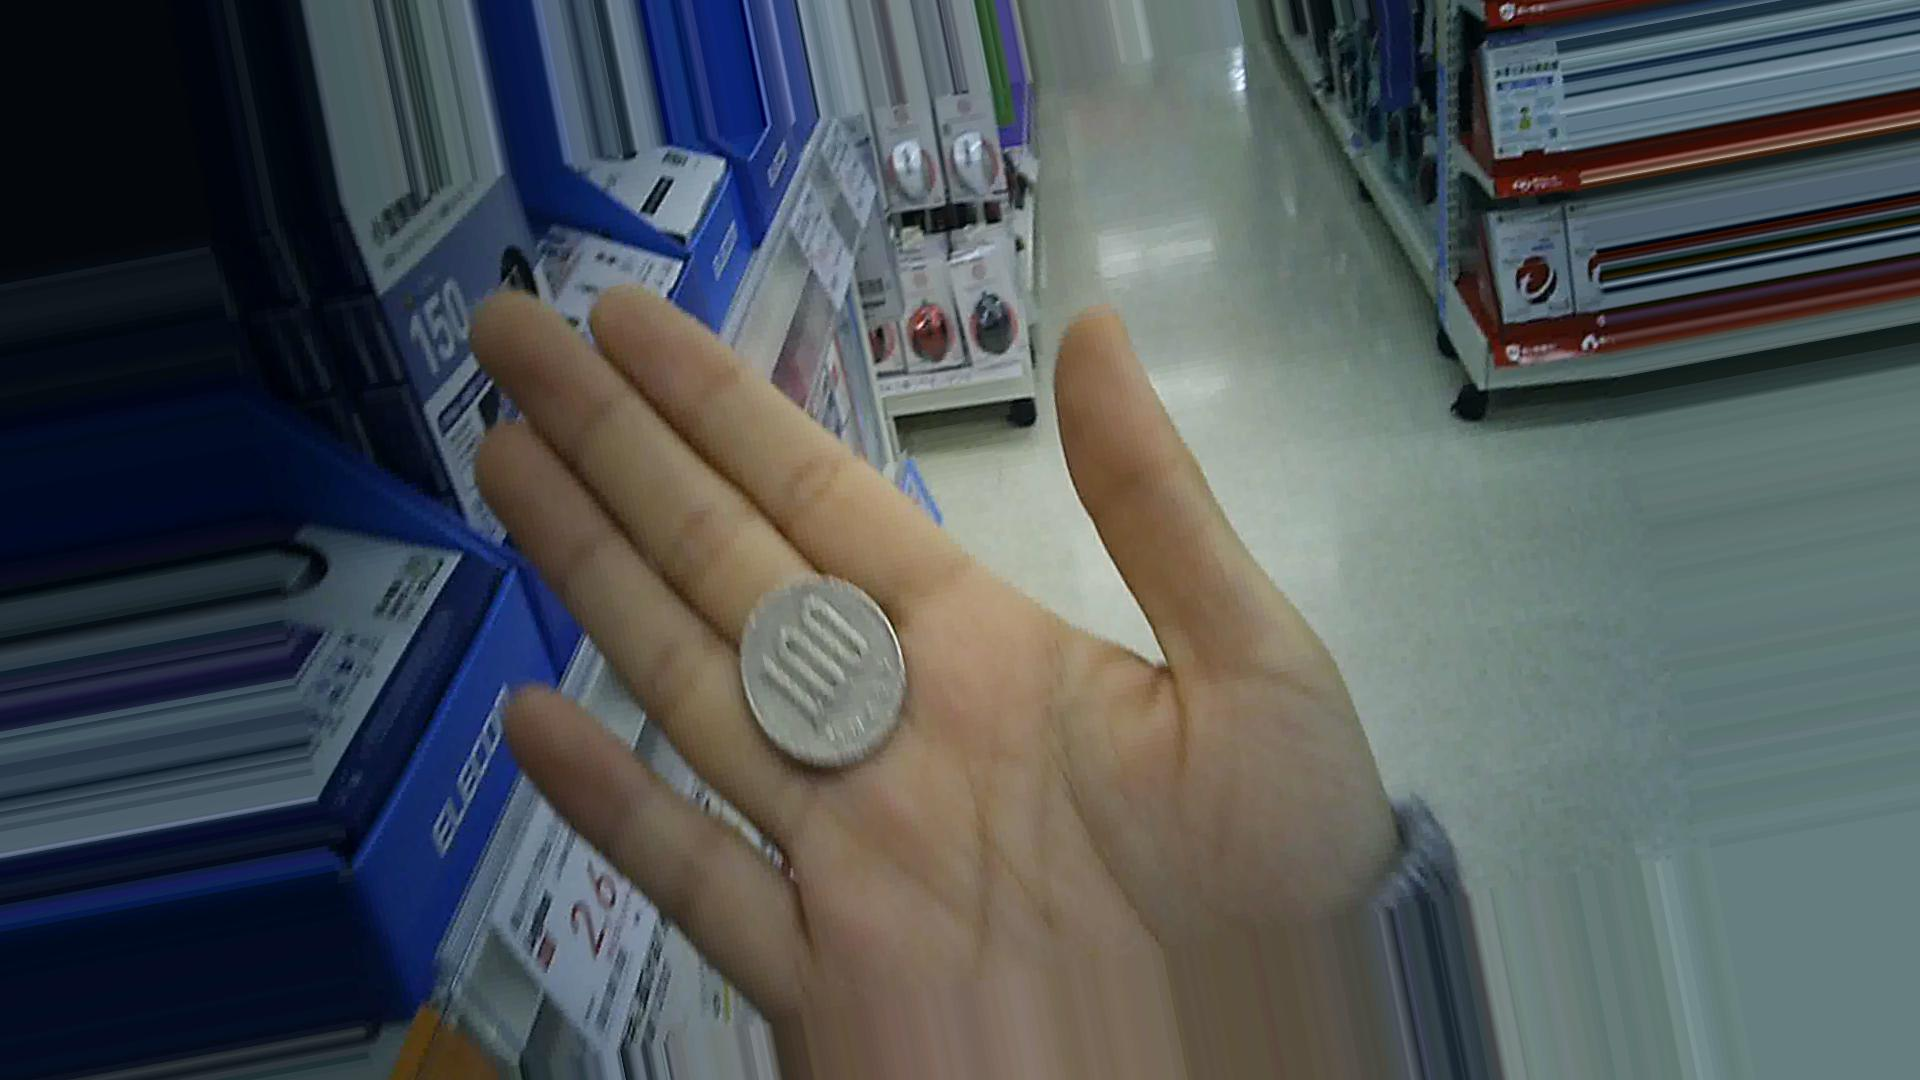100 Yen: (737, 574, 924, 774)
